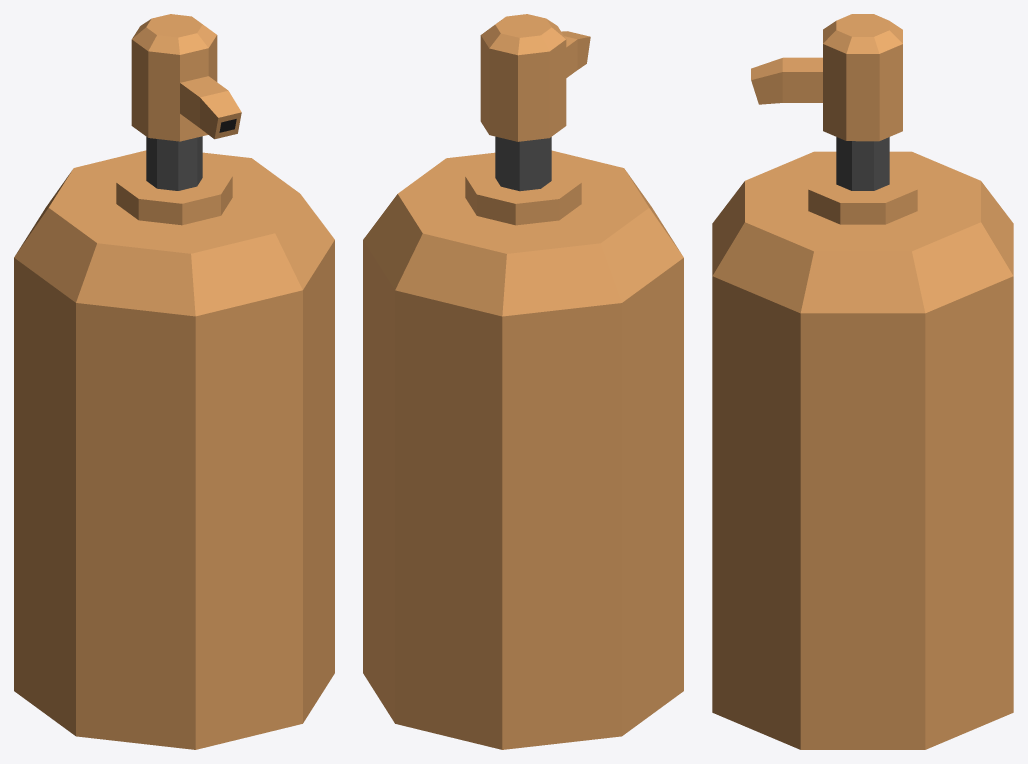
File: KitchenProps_03.fbx
The picture shows the model from 3 angles, left to right: view 1: azimuth 30°, elevation 25°; view 2: azimuth 150°, elevation 25°; view 3: azimuth 270°, elevation 25°; orthographic projection.
Visible parts, largest first — view 1: KitchenProps_03; view 2: KitchenProps_03; view 3: KitchenProps_03.
Boxes of the visible parts, bbox=[...] form: KitchenProps_03: bbox=[14, 14, 334, 749]; KitchenProps_03: bbox=[363, 14, 683, 749]; KitchenProps_03: bbox=[712, 14, 1013, 749].
Bounding box in the file's own units: 5.76 × 13.96 × 5.76.
